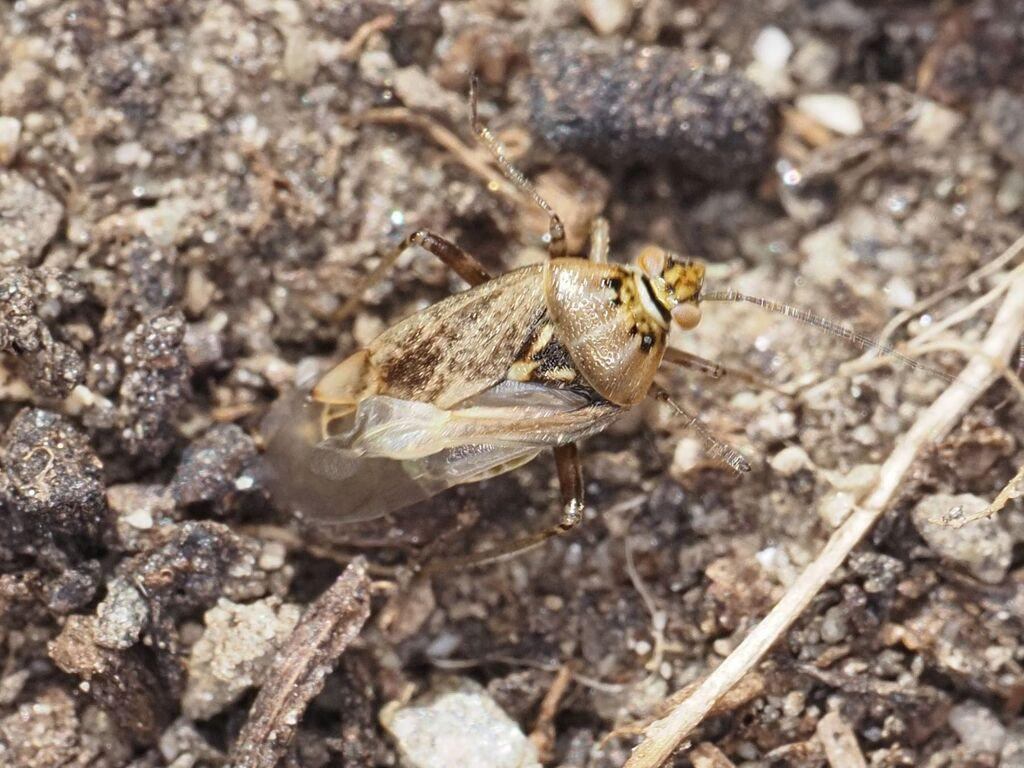plant_bugs: (138, 34, 1006, 676)
